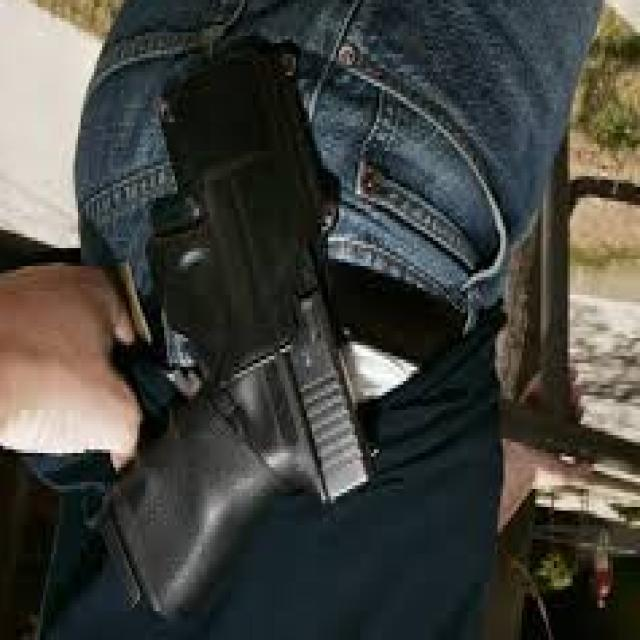gun: (75, 29, 388, 640)
